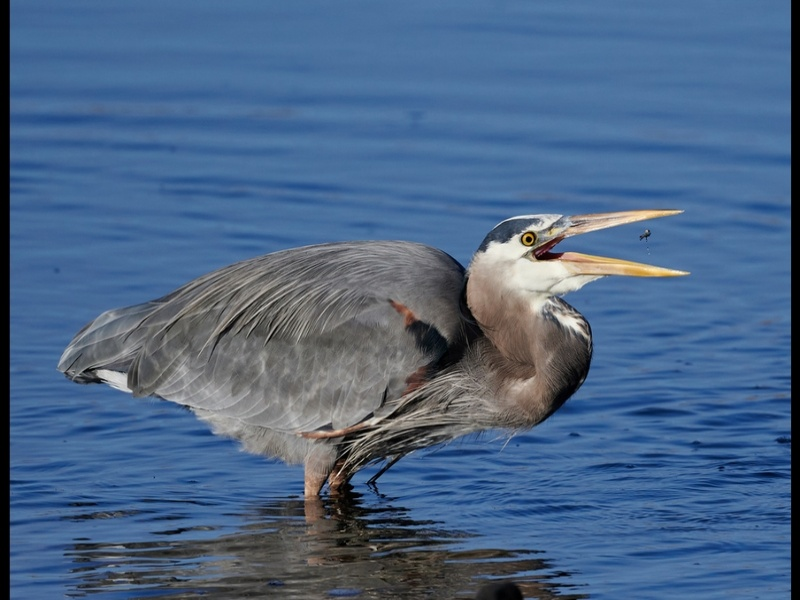heron: (53, 202, 690, 500)
